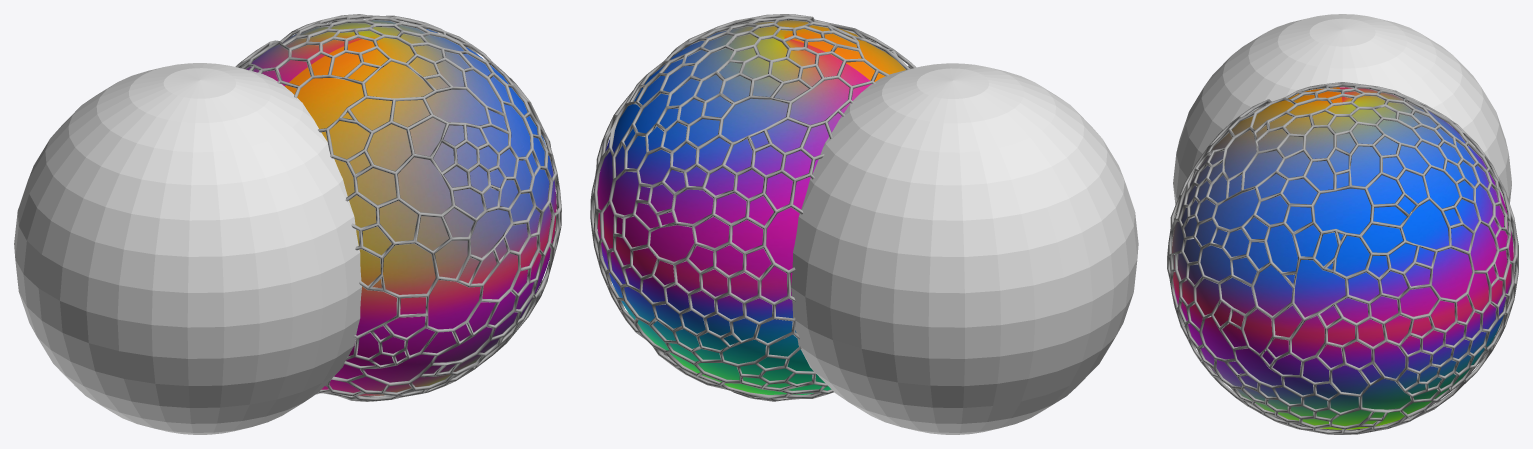
Rendered from studio_4_ball.glb.
3 renders of one model, left to right at view 1: azimuth 30°, elevation 25°; view 2: azimuth 150°, elevation 25°; view 3: azimuth 270°, elevation 25°, orthographic. The views are drawn at different scales.
Parts seen in each view (by area): view 1: 球, Sphere, ICO球; view 2: 球, Sphere, ICO球; view 3: Sphere, ICO球, 球.
Part boxes in pixels (<box>): 球: <box>14,63,361,434</box>; Sphere: <box>246,20,556,395</box>; ICO球: <box>235,14,561,401</box>; 球: <box>791,63,1138,434</box>; Sphere: <box>597,20,905,394</box>; ICO球: <box>590,14,916,401</box>; Sphere: <box>1172,87,1513,429</box>; ICO球: <box>1167,82,1518,434</box>; 球: <box>1173,14,1511,204</box>.
Bounding box in the file's own units: 2.98 × 2 × 2.
Materials: 2 (1 with a texture image).
